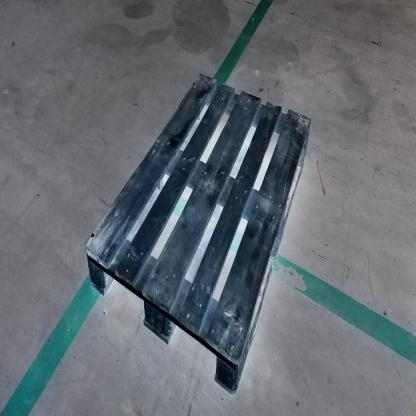BoxFace: (83, 73, 312, 406)
